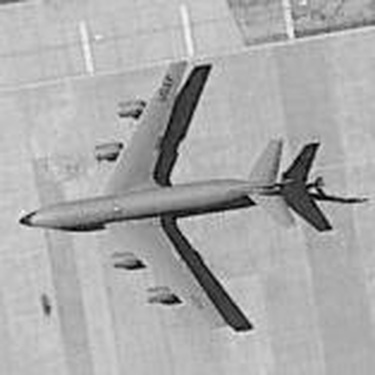airplane: (16, 47, 304, 339)
